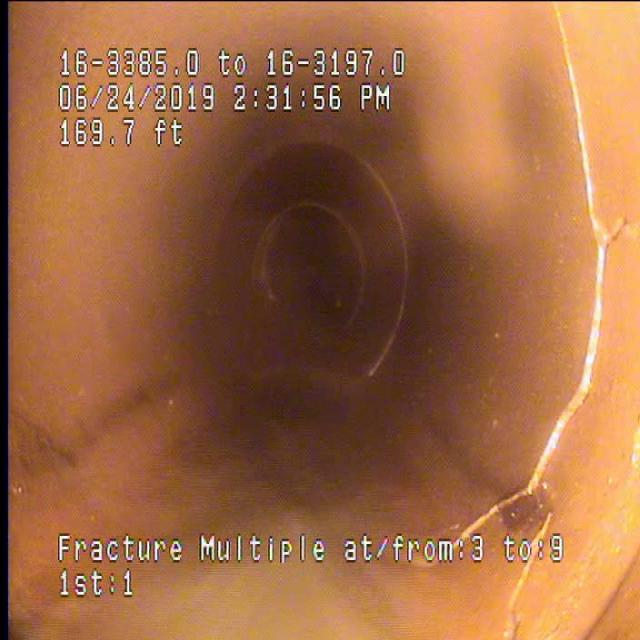Fracture: (513, 45, 628, 478)
